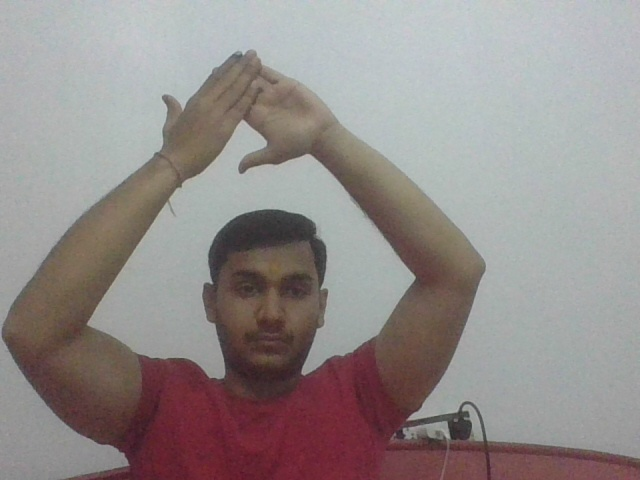H: (154, 49, 326, 173)
